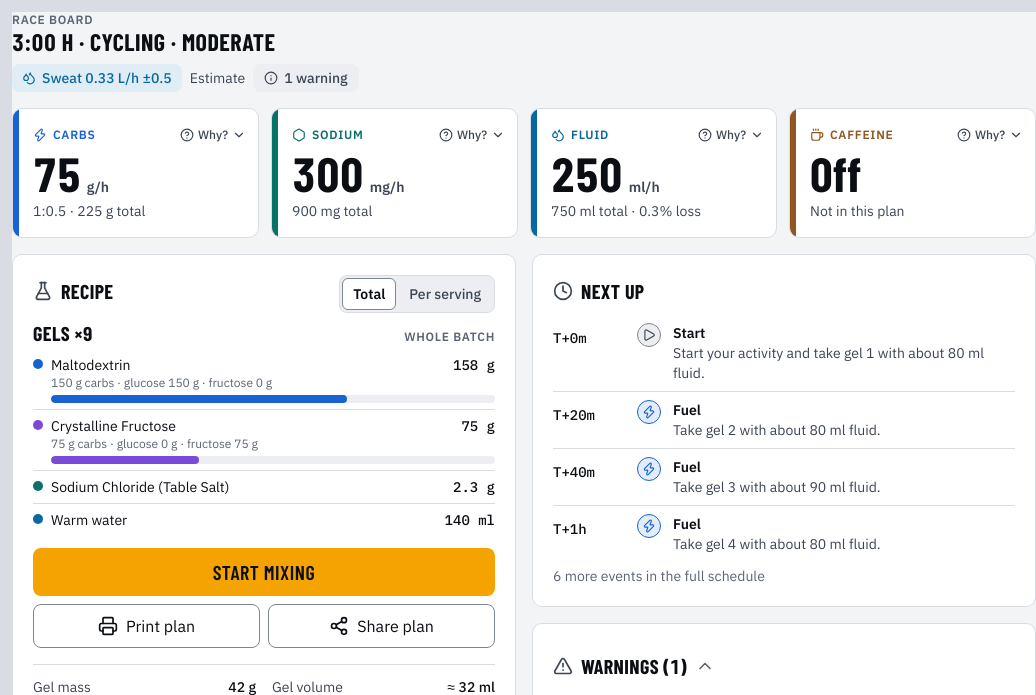
Test: RaceBoard: KPI tiles › has a Why for sodium, fluid and caffeine with distinct names
Click the button "Why?" next to "Caffeine" at [990, 135], box 957,125 -> 1023,145
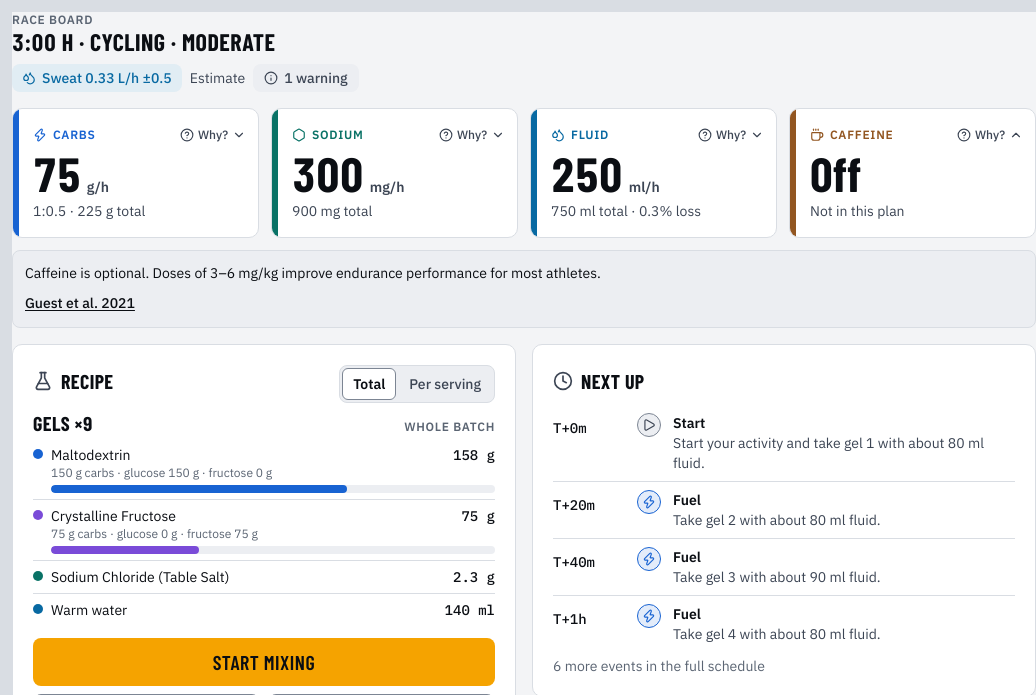
Expected: the text "Caffeine is optional" is shown, 25,264 -> 601,282
